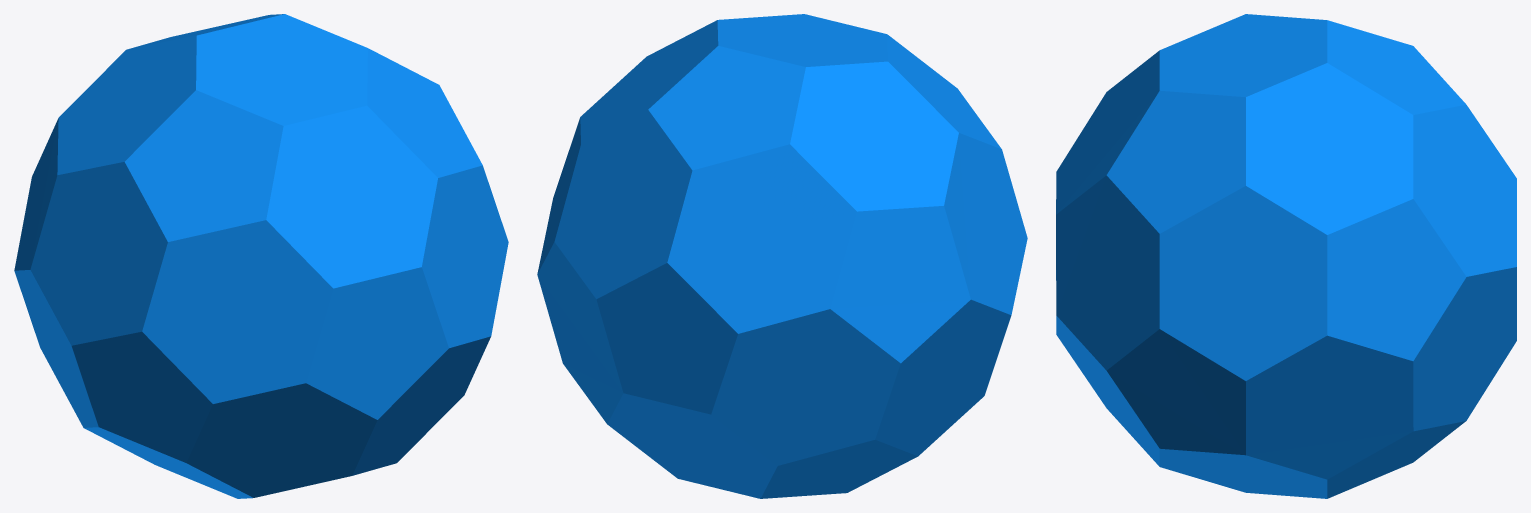
The model's file is Model_Platonic.fbx.
3 renders of one model, left to right at view 1: azimuth 30°, elevation 25°; view 2: azimuth 150°, elevation 25°; view 3: azimuth 270°, elevation 25°, orthographic.
Visible parts, largest first — view 1: Platonic_1; view 2: Platonic_1; view 3: Platonic_1.
Part boxes in pixels (left/top/right/bottom): Platonic_1: left=14, top=14, right=508, bottom=498; Platonic_1: left=537, top=14, right=1027, bottom=498; Platonic_1: left=1056, top=14, right=1516, bottom=498.
Bounding box in the file's own units: 154 × 152 × 147.
